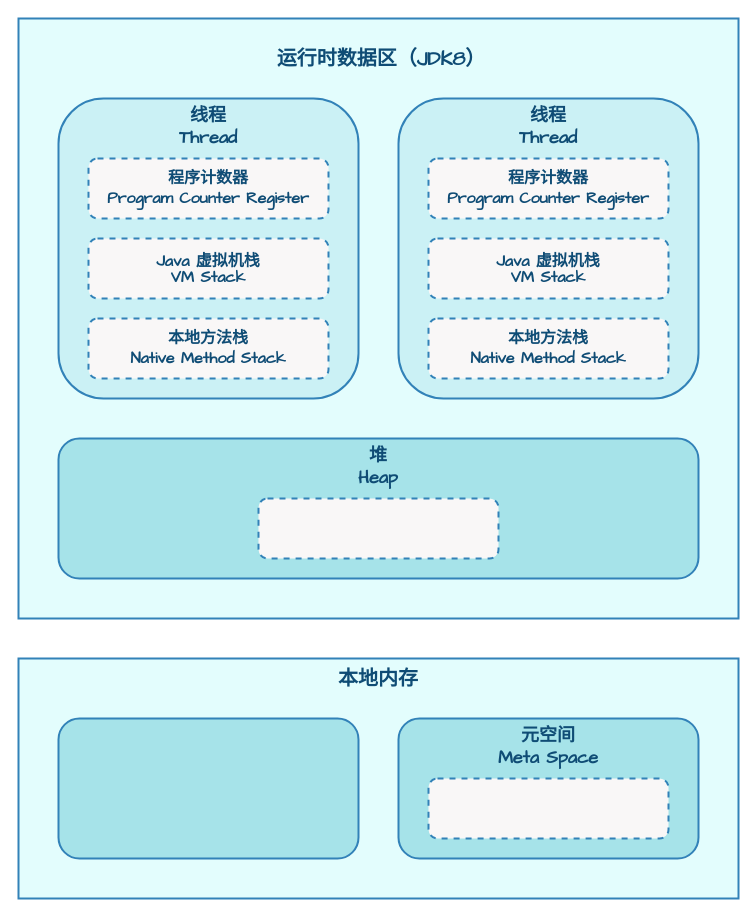
Some shapes in this 756 by 916 pixel diagram are drawn without their labels. Here are the shapes that lost their labels. From the top down, the centre of each, then its label:
At (378,528): "字符串常量池 String Constant Pool".
At (208,788): "直接内存 Direct Memory".
At (548,808): "运行时常量池 Runtime Constant Pool".
